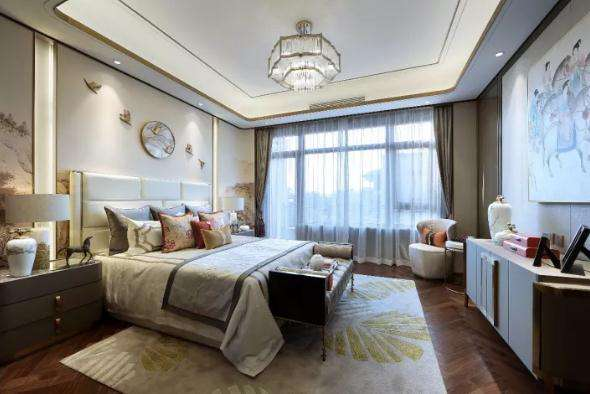床: (100, 235, 337, 359)
枕头: (107, 202, 232, 253)
灯: (263, 23, 340, 94), (6, 191, 71, 267), (219, 190, 246, 226), (194, 100, 205, 111), (490, 50, 500, 61), (111, 58, 122, 66)
